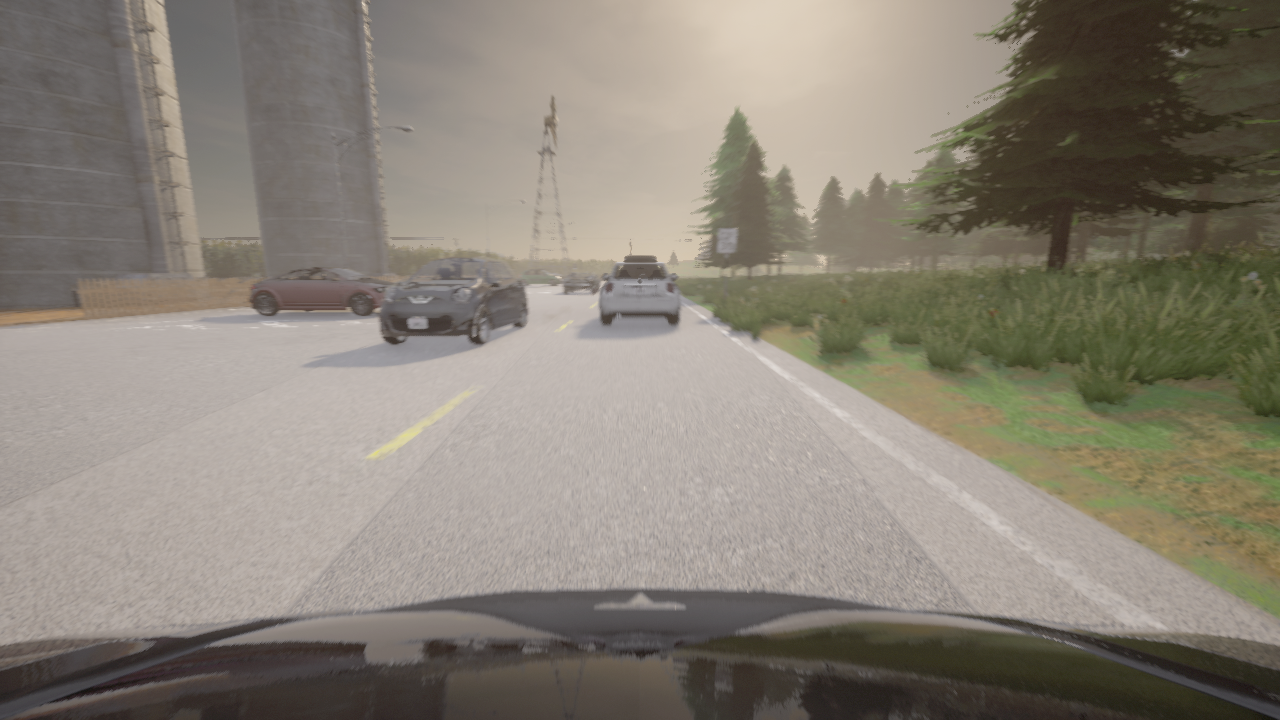cyclist: (0, 588, 1279, 719), (378, 257, 527, 345), (249, 267, 395, 316), (599, 262, 680, 325), (563, 272, 599, 293), (520, 269, 561, 285), (537, 268, 563, 281), (624, 256, 656, 261)
